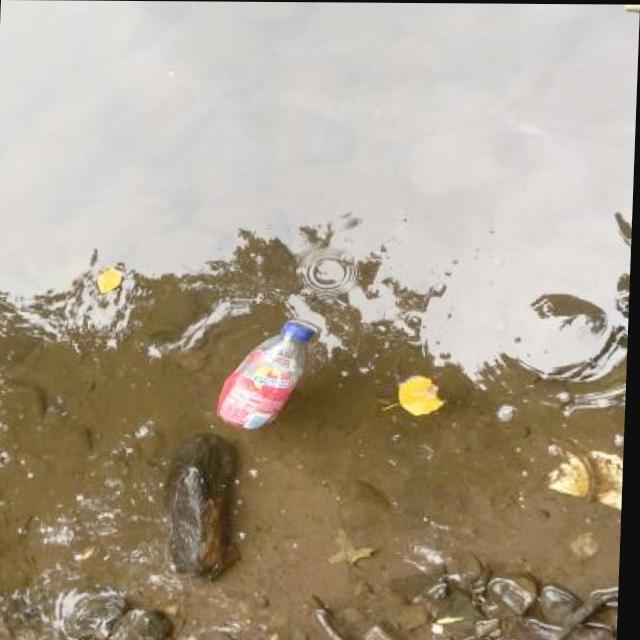Plastic: (213, 317, 328, 434)
